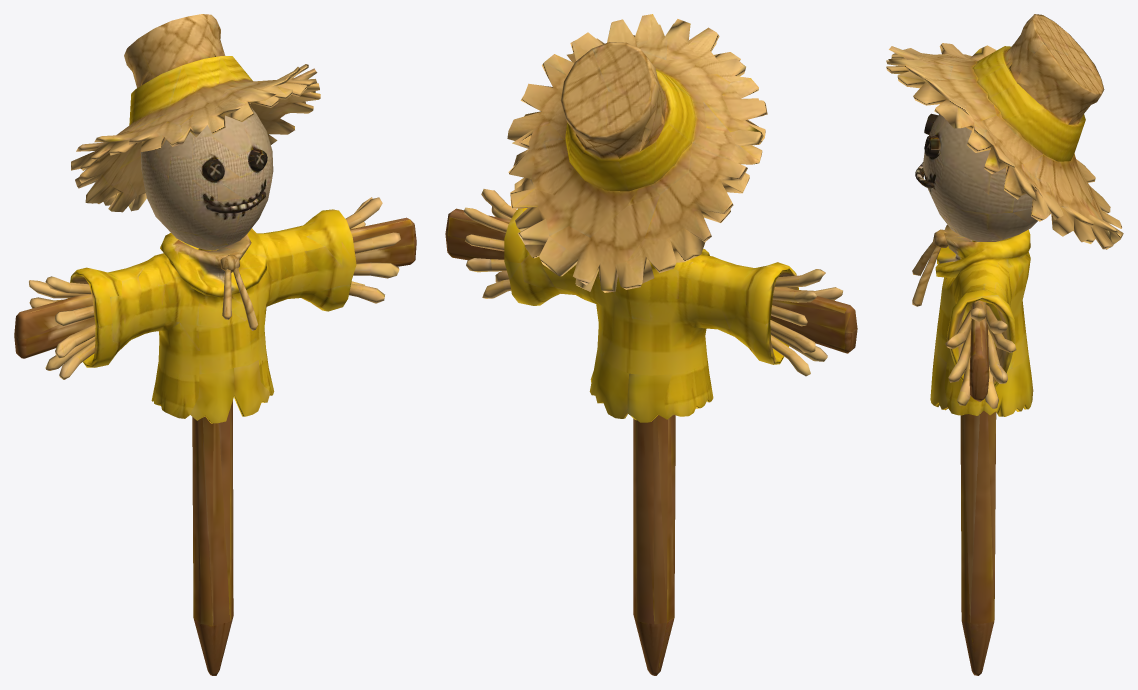
The model's file is scarecrow_gold.glb.
3 renders of one model, left to right at view 1: azimuth 30°, elevation 25°; view 2: azimuth 150°, elevation 25°; view 3: azimuth 270°, elevation 25°, orthographic. The views are drawn at different scales.
Bounding box in the file's own units: 0.6525 × 1 × 0.3281.
1 material, 1 textured.
